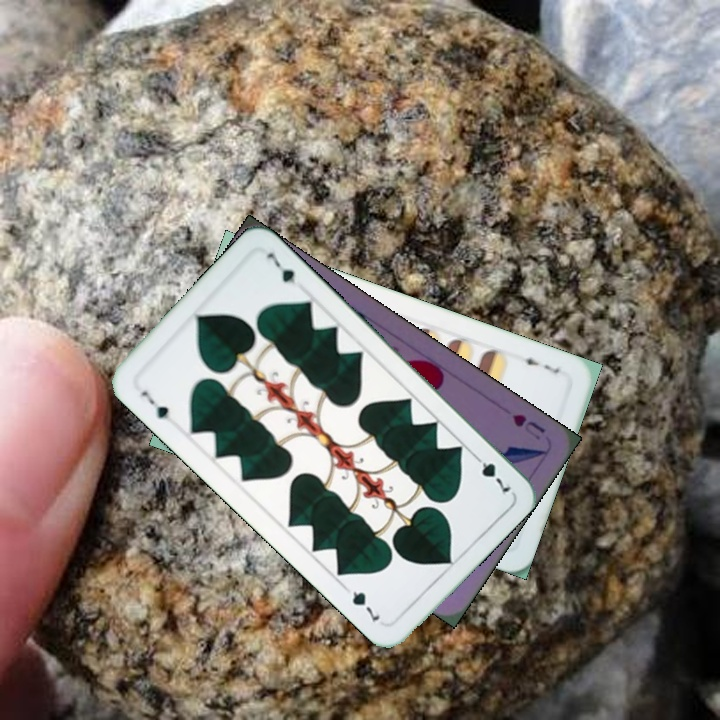E7: (515, 351, 562, 377)
G7: (467, 449, 514, 498), (137, 386, 176, 427)
HU: (508, 410, 548, 443)
